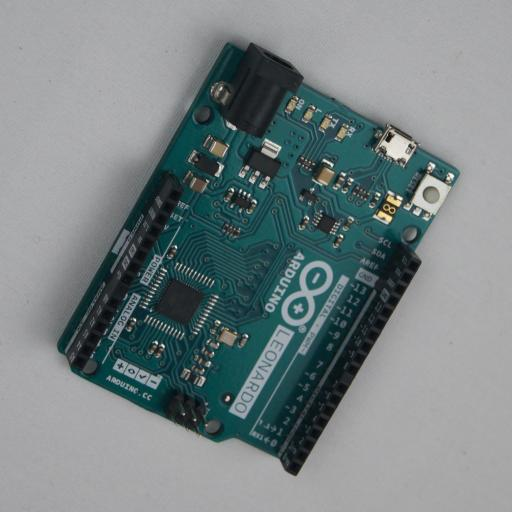Arduino Leonardo: (56, 39, 460, 476)
